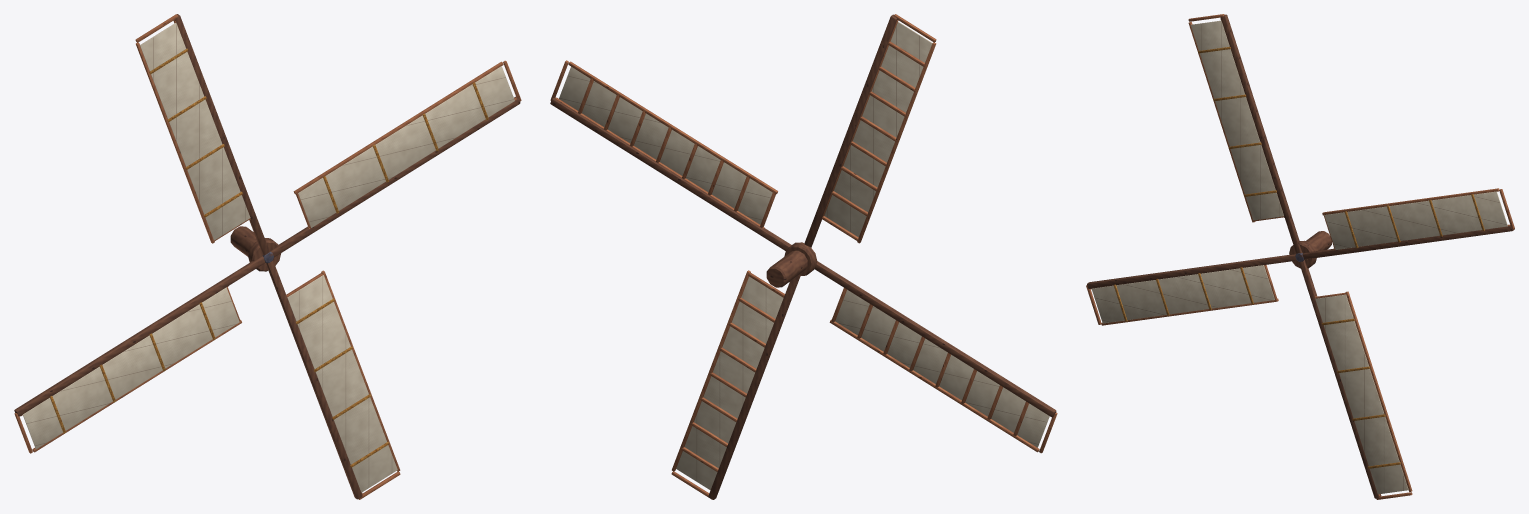
Rendered from windmill_sails.gltf.
The picture shows the model from 3 angles, left to right: view 1: azimuth 30°, elevation 25°; view 2: azimuth 150°, elevation 25°; view 3: azimuth 330°, elevation 25°; orthographic projection. The views are drawn at different scales.
Parts seen in each view (by area): view 1: ANIM_sails; view 2: ANIM_sails, windmill_sails_mesh; view 3: ANIM_sails.
Part boxes in pixels (left/top/right/bottom): ANIM_sails: left=14, top=14, right=521, bottom=499; ANIM_sails: left=550, top=14, right=1057, bottom=499; windmill_sails_mesh: left=766, top=250, right=807, bottom=287; ANIM_sails: left=1086, top=14, right=1514, bottom=499.
Size of the model in its own units: 10.97 by 10.97 by 1.13.
Materials: 5 (5 with a texture image).
